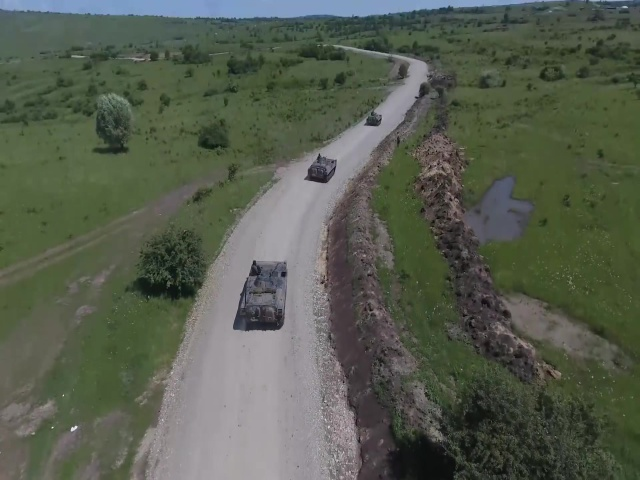vehicle: (235, 261, 291, 332), (305, 155, 338, 182), (364, 110, 384, 127)
